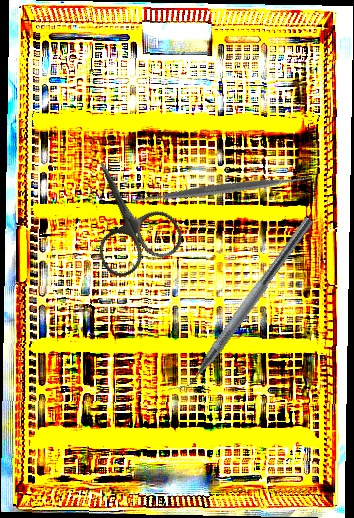Chopper: (165, 207, 315, 405)
Iris Scissors: (63, 144, 189, 283)
Spatula Surgical: (122, 89, 323, 290)
